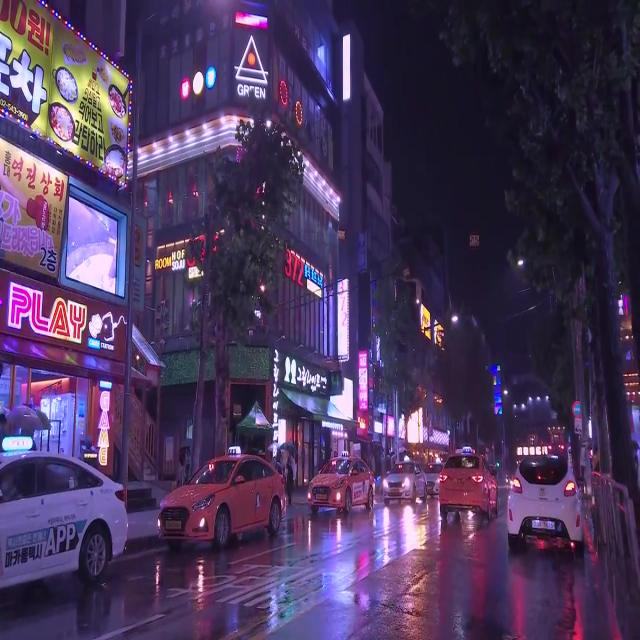Car: (4, 448, 125, 592), (156, 453, 288, 542), (505, 453, 582, 550), (438, 442, 497, 520), (309, 457, 374, 515), (382, 460, 423, 503)
